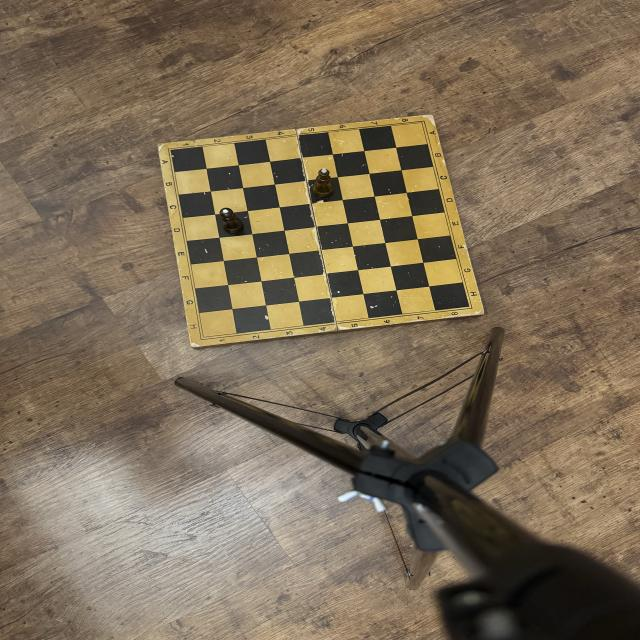black-king: (312, 167, 334, 198)
black-queen: (219, 207, 244, 234)
